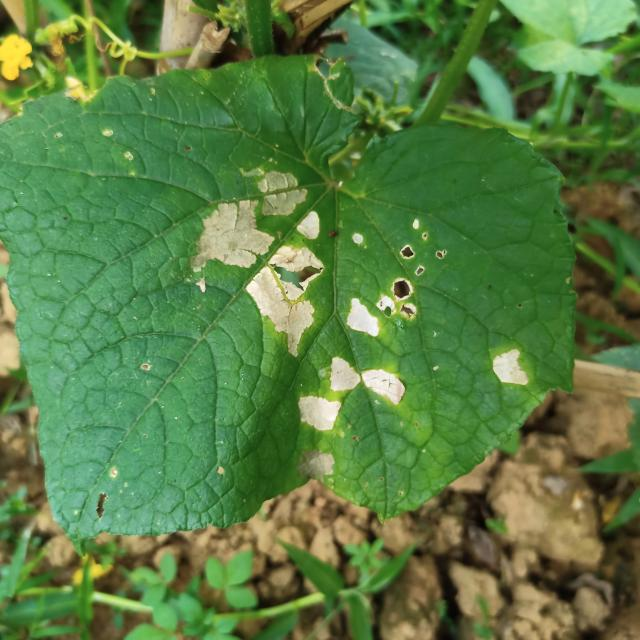disease_cucumber: (186, 160, 317, 364), (345, 212, 448, 341), (281, 353, 412, 437), (482, 346, 535, 393)
